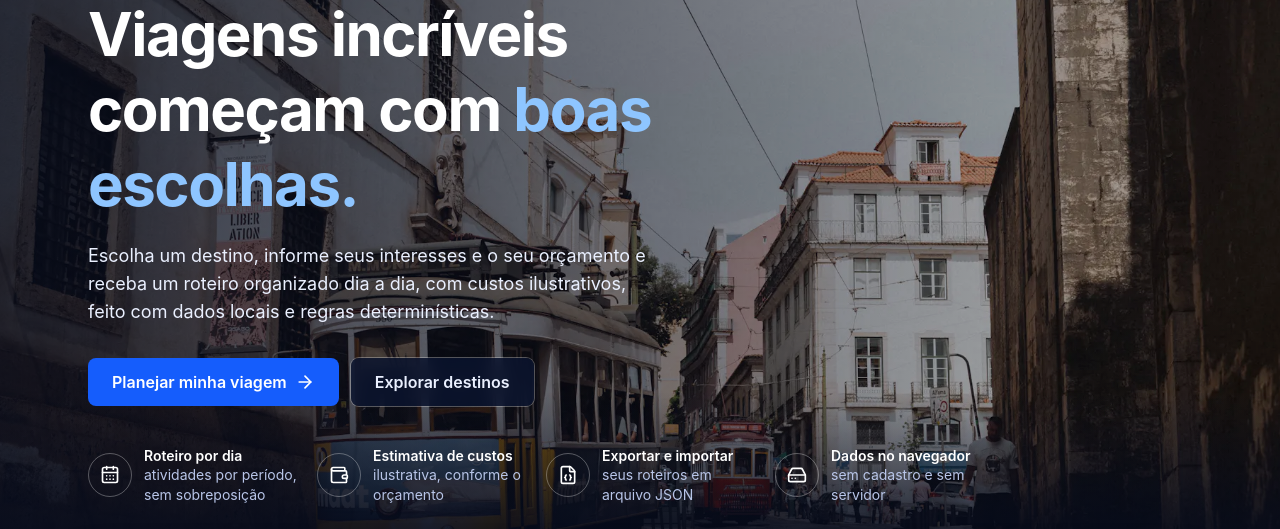
Test: Etapa 2 — Datas e duração › opção B: atalhos de 3, 5, 7, 10 e 14 dias definem a duração
The width and height of the screenshot is (1280, 529).
Click the link "Planejar minha viagem" at (213, 382), box [88, 358, 339, 406]
(page scrolled)
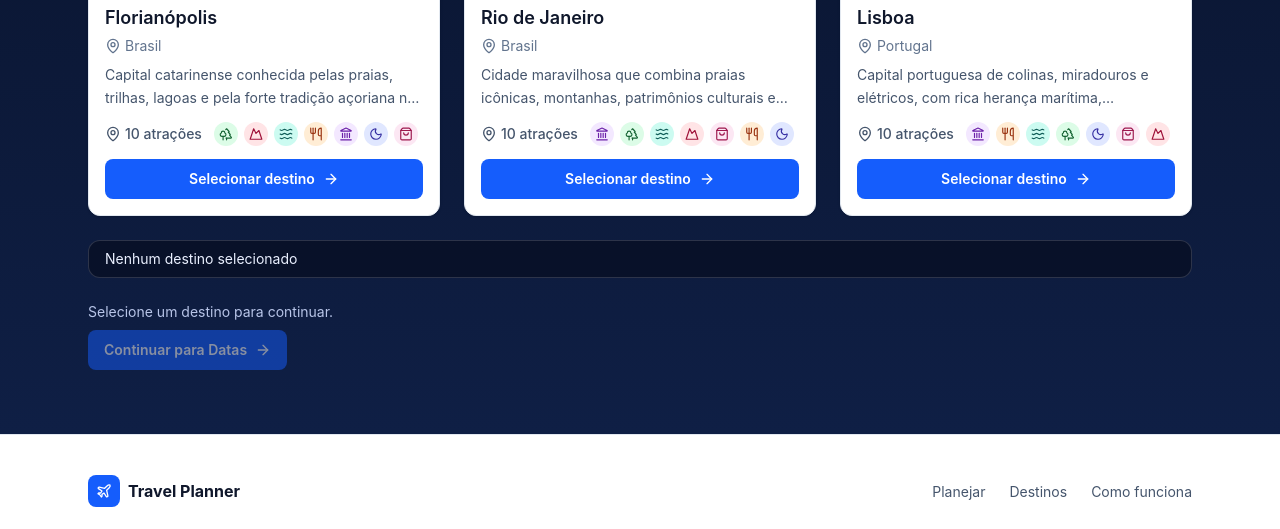
Click the button "Selecionar destino" below "Portugal" at (1016, 178), box [857, 158, 1175, 198]
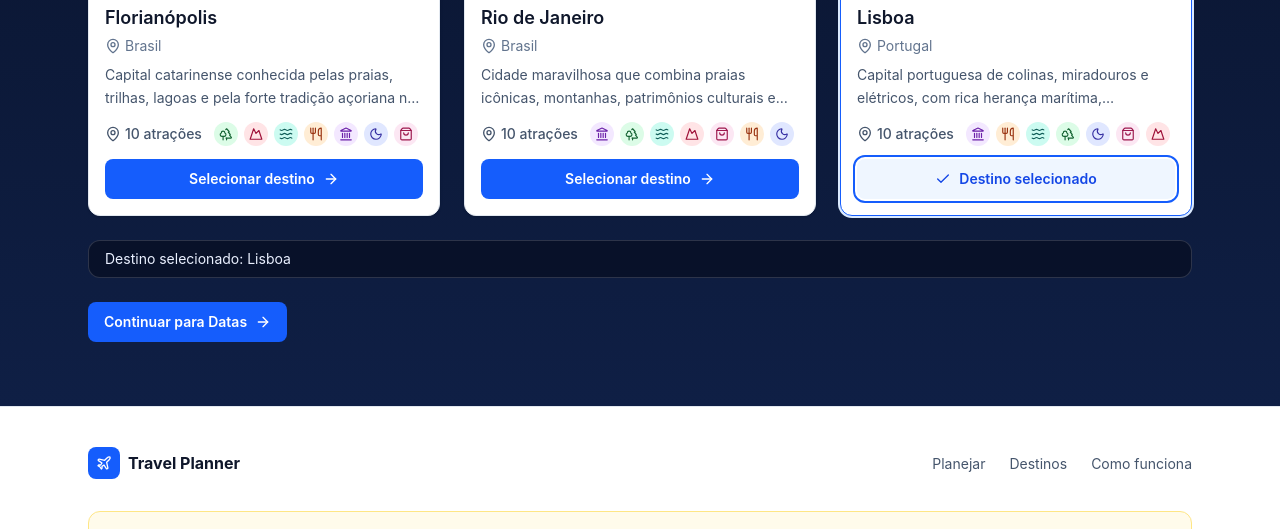
Click the button "Continuar para Datas" at (188, 322), box [88, 302, 287, 342]
(page scrolled)
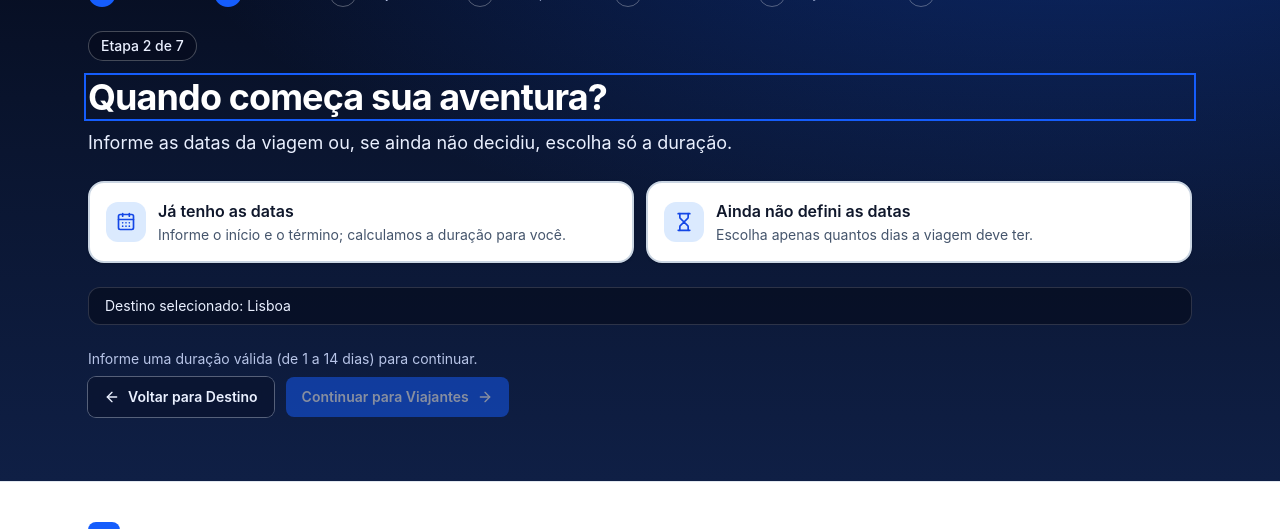
Now the heading "Quando começa sua aventura?" is shown, box [88, 75, 607, 119]
Click the radio button labelled "Ainda não defini as datas" at (919, 222), box [646, 181, 1192, 263]
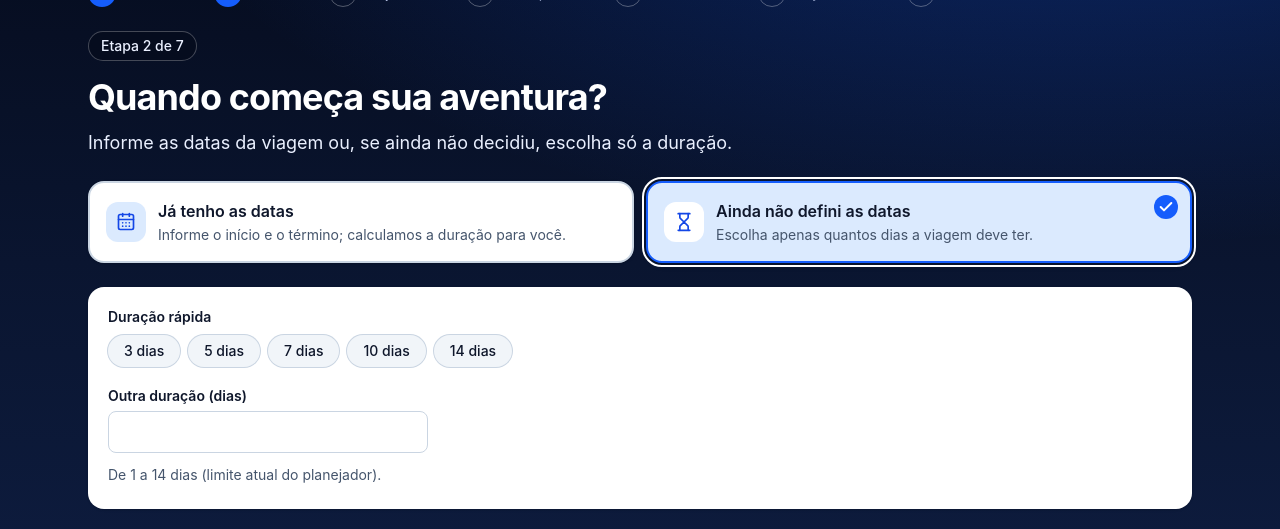
Now the buttons read "3 dias", "5 dias", "7 dias", "10 dias", "14 dias", in this order
Click the button "7 dias" at (304, 351), box [268, 335, 339, 367]
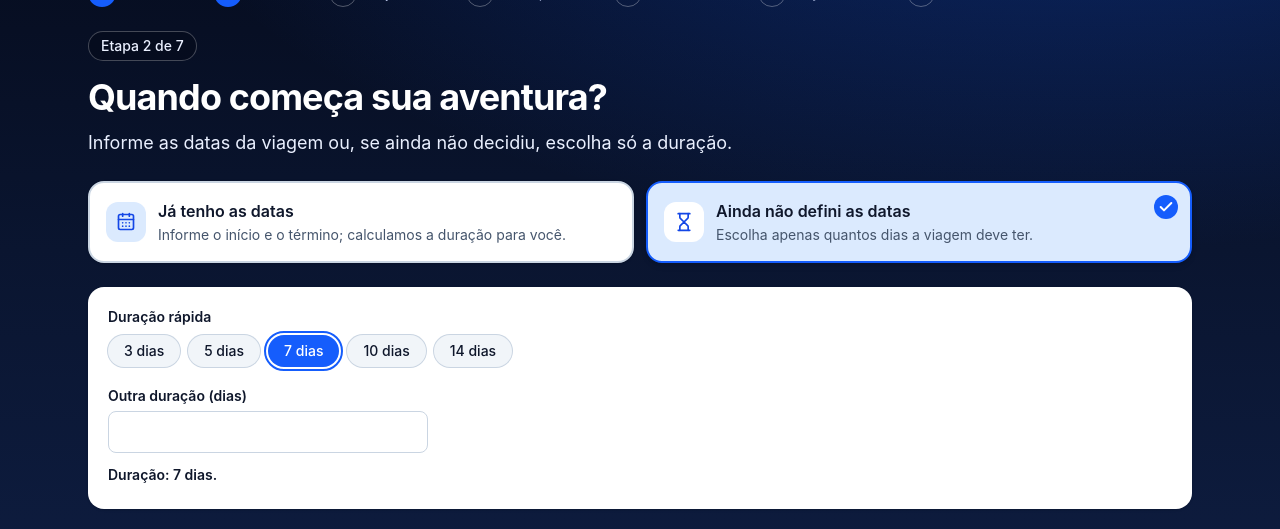
Now the message reads "Duração: 7 dias.", box [108, 466, 217, 483]
Click the button "14 dias" at (473, 351), box [434, 335, 512, 367]
(page scrolled)
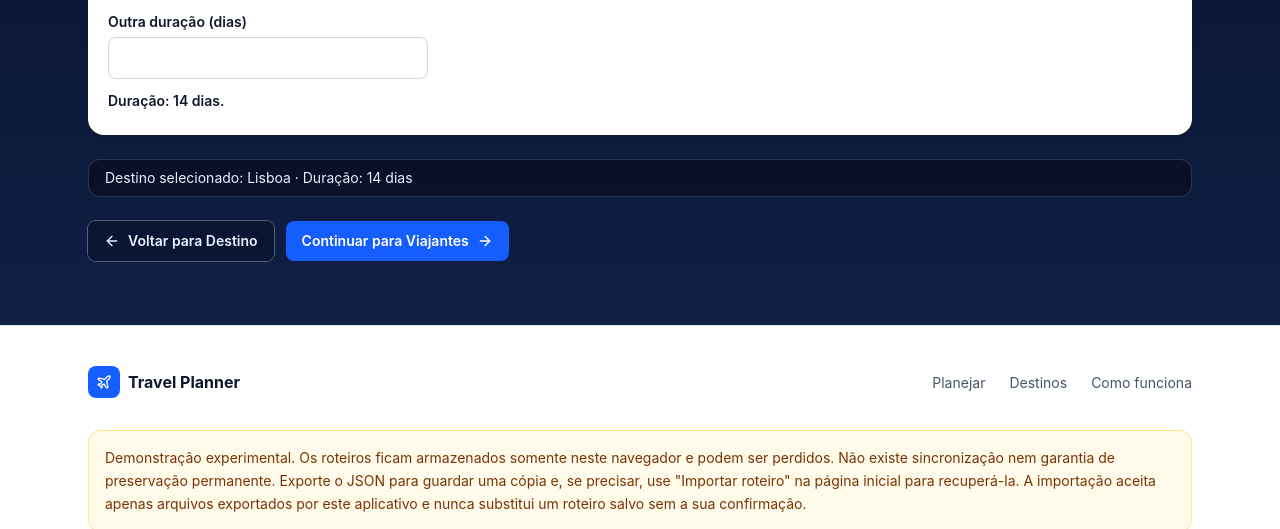
Now the element named "Resumo do planejamento" shows "Duração: 14 dias", box [105, 169, 412, 186]
